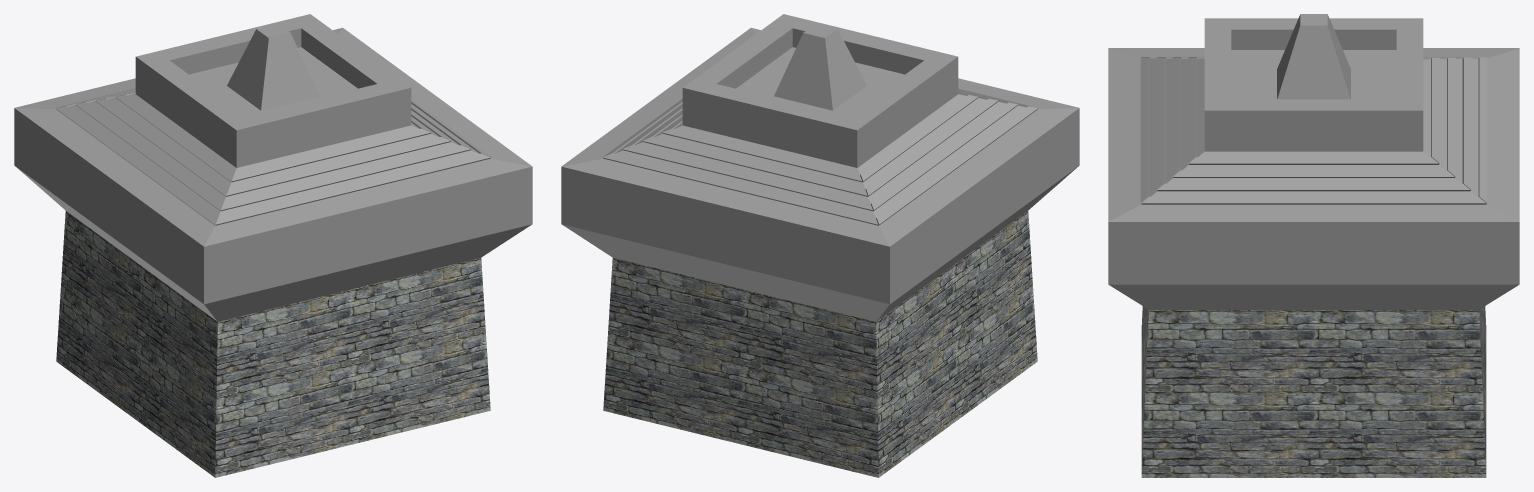
The model's file is Temple1.obj.
3 views of the same model, side by side, from view 1: azimuth 30°, elevation 25°; view 2: azimuth 150°, elevation 25°; view 3: azimuth 270°, elevation 25° (orthographic). The views are drawn at different scales.
Parts seen in each view (by area): view 1: Plane; view 2: Plane; view 3: Plane.
Part boxes in pixels (x1,y1,x2,y2): Plane: (14, 14, 532, 477); Plane: (561, 14, 1079, 477); Plane: (1108, 14, 1519, 477).
Size of the model in its own units: 105 by 109 by 105.
Materials: 2 (1 with a texture image).
